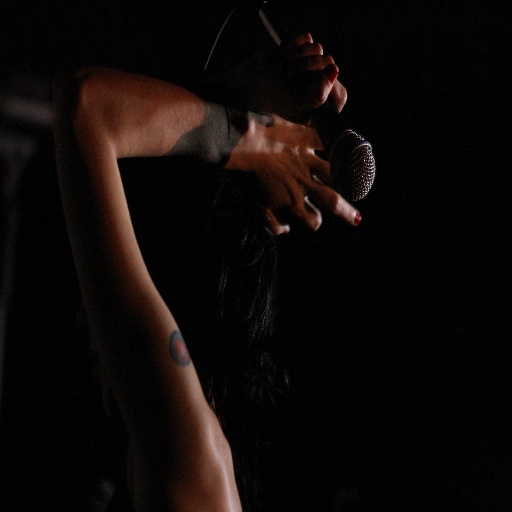hand: (257, 109, 360, 237), (279, 31, 349, 122)
